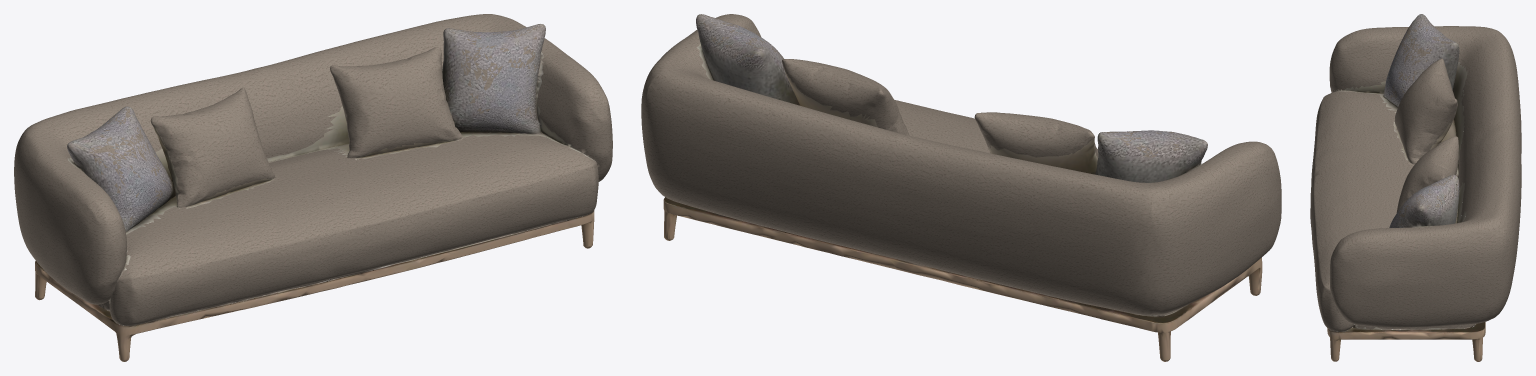
The picture shows the model from 3 angles, left to right: view 1: azimuth 30°, elevation 25°; view 2: azimuth 150°, elevation 25°; view 3: azimuth 270°, elevation 25°; orthographic projection. The views are drawn at different scales.
Visible parts, largest first — view 1: tripo_node_b2a6421f-6fd7-4690-b9d4-450eb62ac845; view 2: tripo_node_b2a6421f-6fd7-4690-b9d4-450eb62ac845; view 3: tripo_node_b2a6421f-6fd7-4690-b9d4-450eb62ac845.
Boxes of the visible parts, box(x1,y1,x2,y2) form: tripo_node_b2a6421f-6fd7-4690-b9d4-450eb62ac845: box(14, 14, 612, 361); tripo_node_b2a6421f-6fd7-4690-b9d4-450eb62ac845: box(641, 14, 1281, 361); tripo_node_b2a6421f-6fd7-4690-b9d4-450eb62ac845: box(1310, 14, 1521, 361).
Bounding box in the file's own units: 2.1 × 0.6999 × 0.85.
2 materials, 2 textured.
